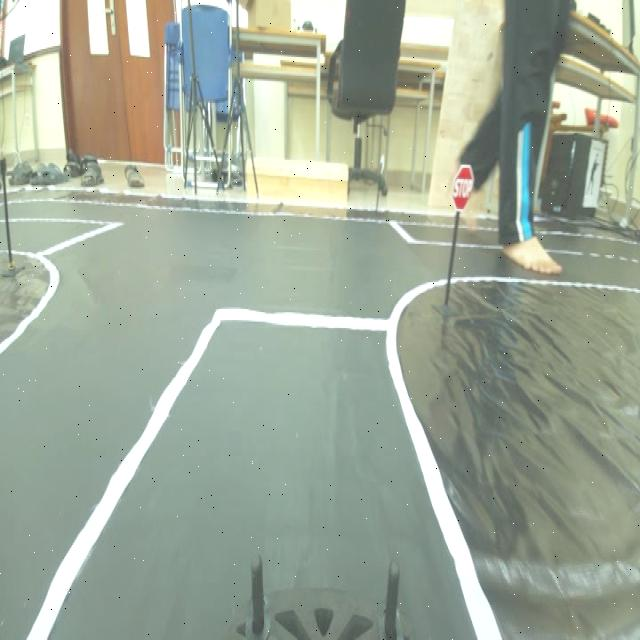stop: (445, 162, 475, 208)
